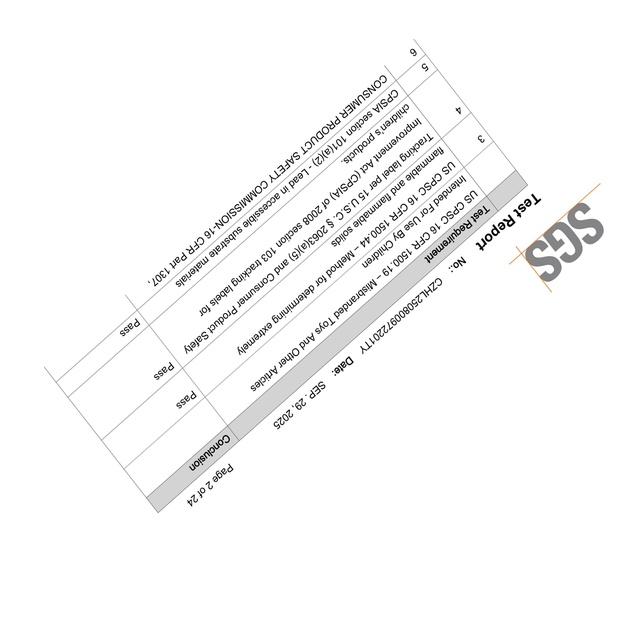sgs: (527, 202, 605, 282)
